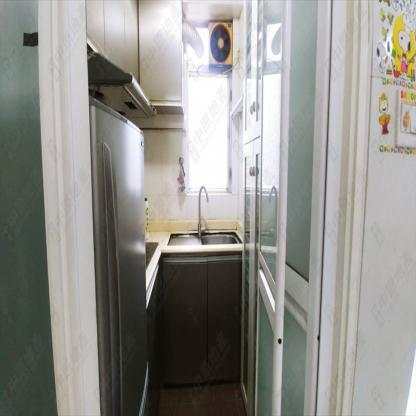Cupboard: (160, 254, 242, 382), (86, 0, 183, 104)
Exhaust Fan: (209, 21, 232, 66)
Exhaust Hood: (87, 49, 159, 118)
Faucet: (196, 184, 209, 230)
Fridge: (90, 97, 149, 415)
Sink: (168, 231, 241, 245)
